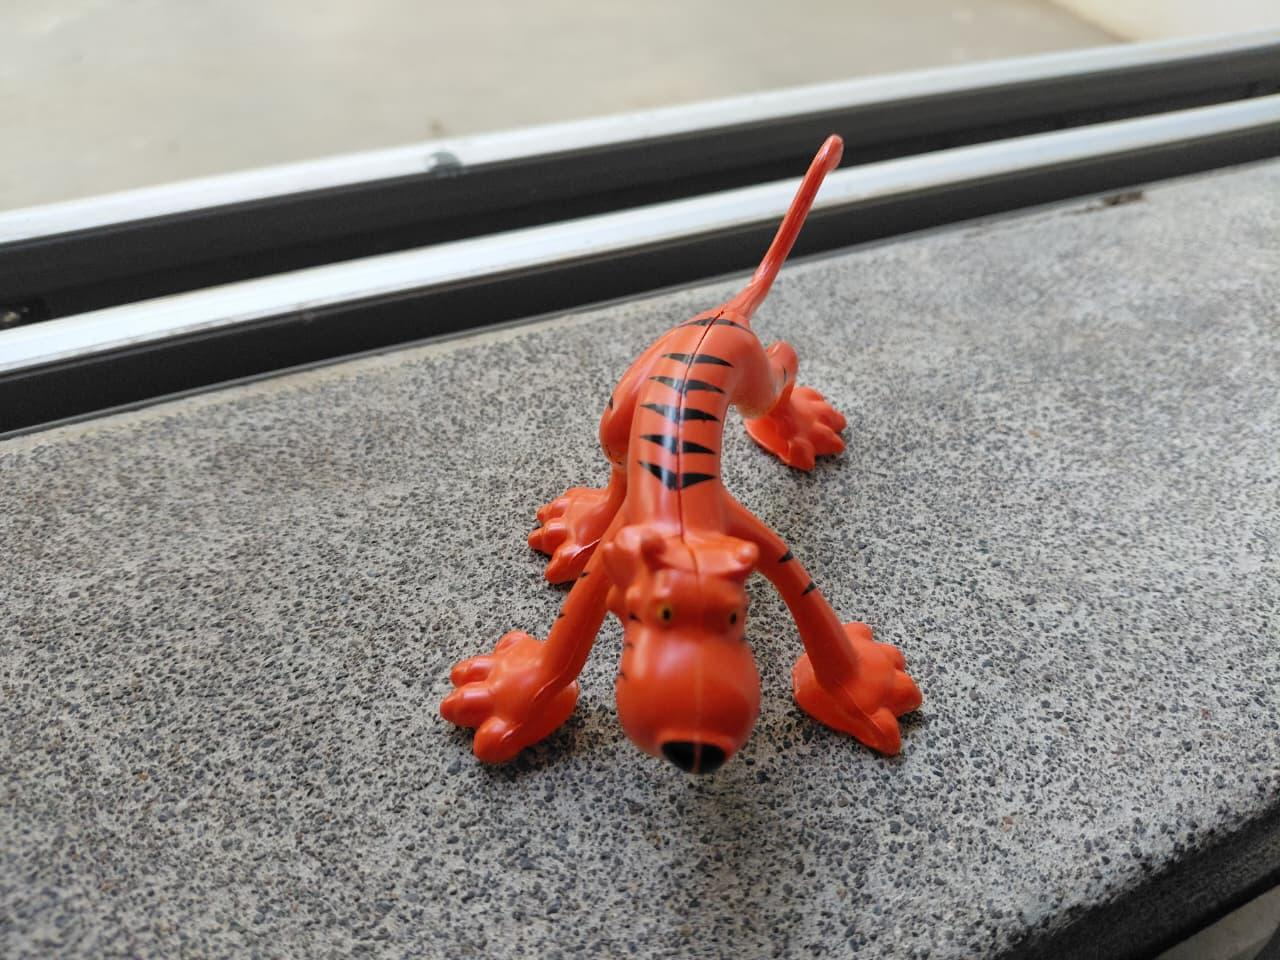tiger: (354, 116, 950, 778)
